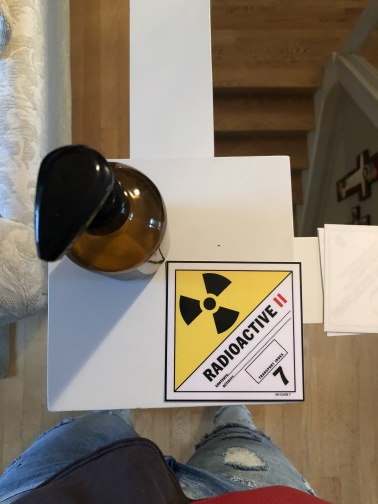Radioactive: (163, 259, 305, 402)
